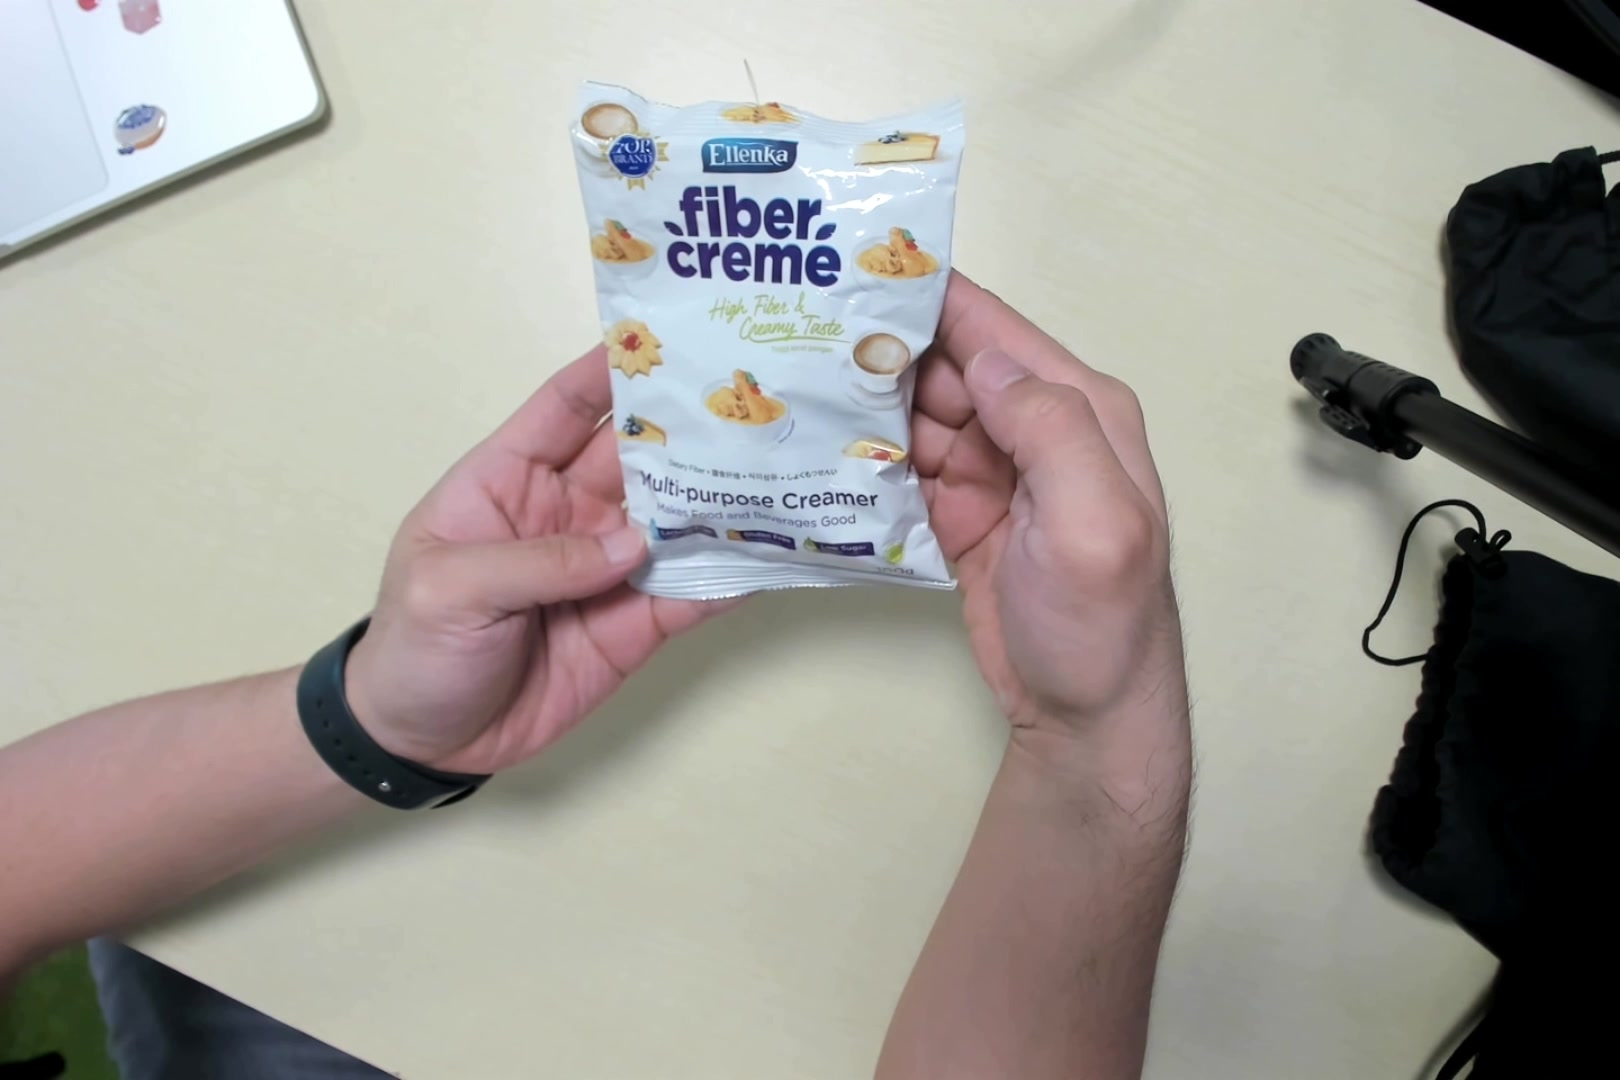OtherBakingNeeds_100-199g_Halal_NonHealthy: (571, 83, 959, 601)
